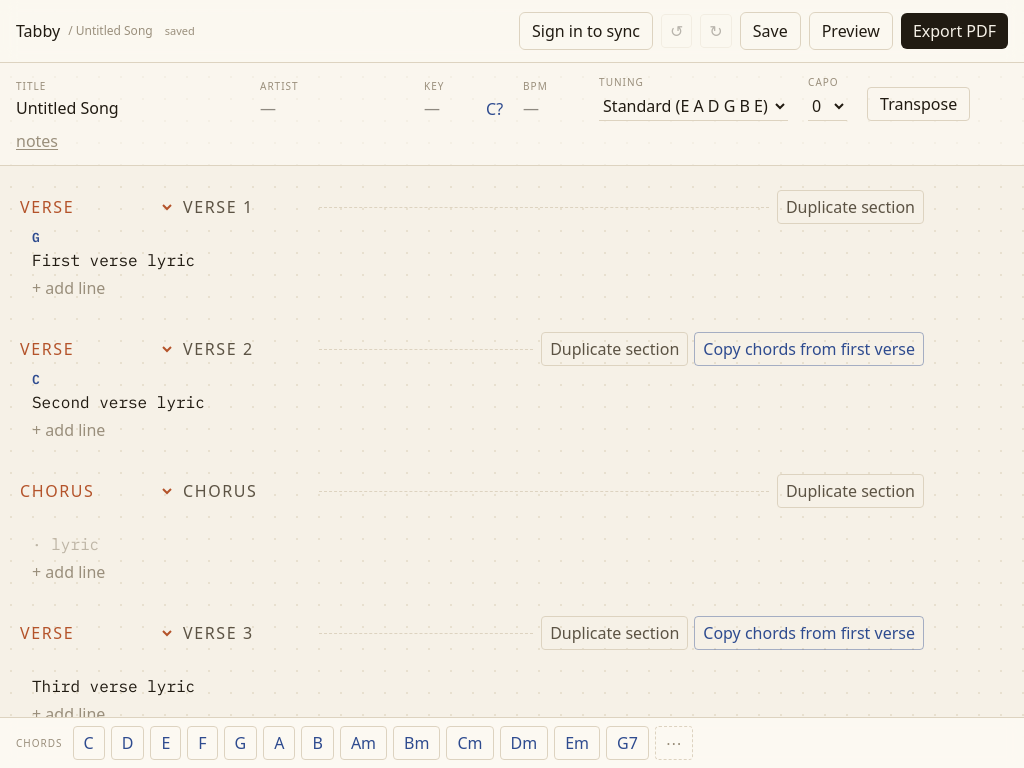
Test: app smoke › copies chords from the first verse, preserves lyrics and supports undo/redo
Click the 2nd button "Copy chords from first verse" at (809, 633), box [694,616,924,650]
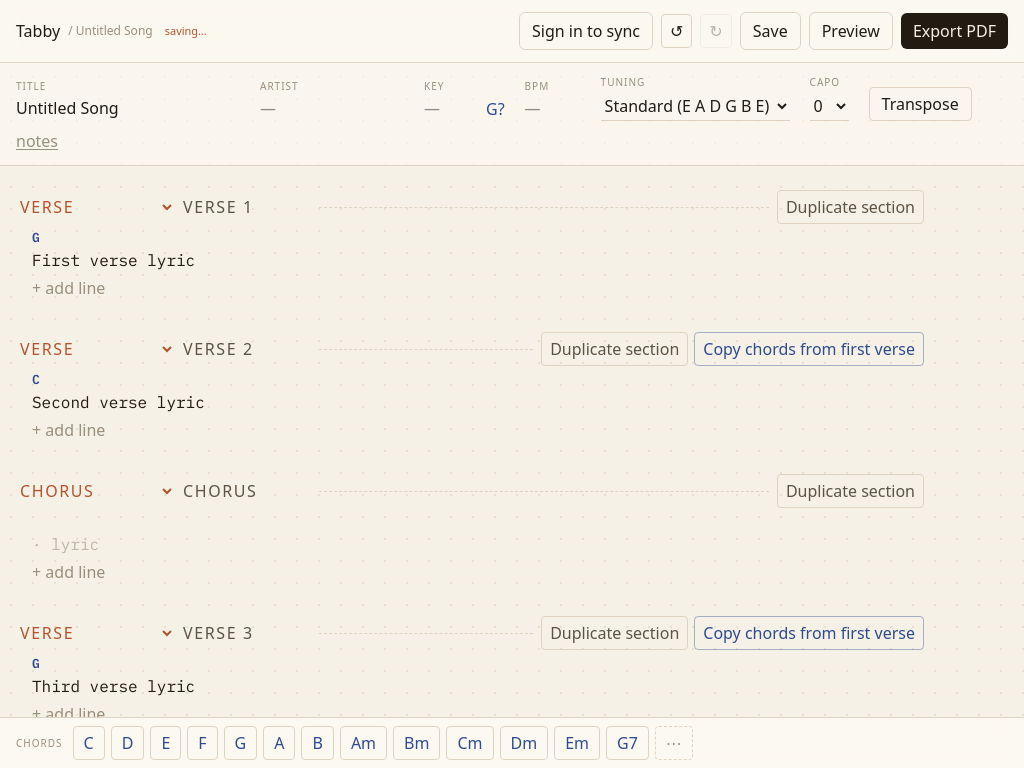
expect the button named "Chord G" is shown: met, box [32,654,40,674]
Click the 1st button "Copy chords from first verse" at (809, 349), box [694,332,924,366]
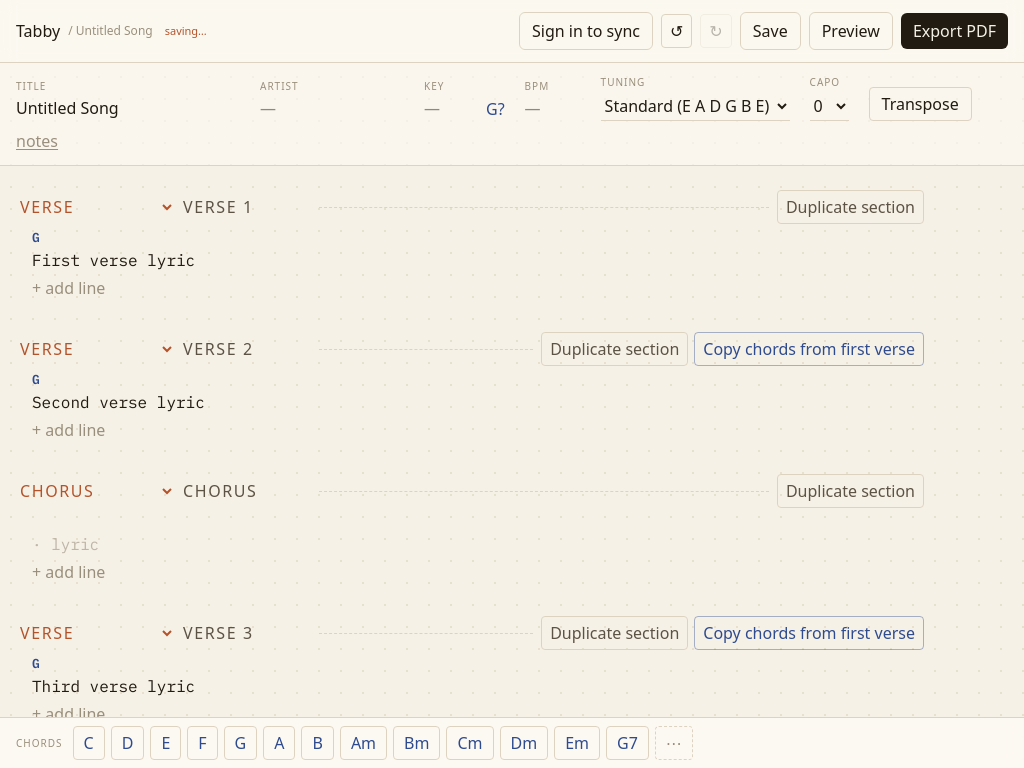
expect the 2nd field showing "Second verse lyric" is shown: met, box [32,390,205,414]
expect the button named "Chord G" is shown: met, box [32,370,40,390]
Press z
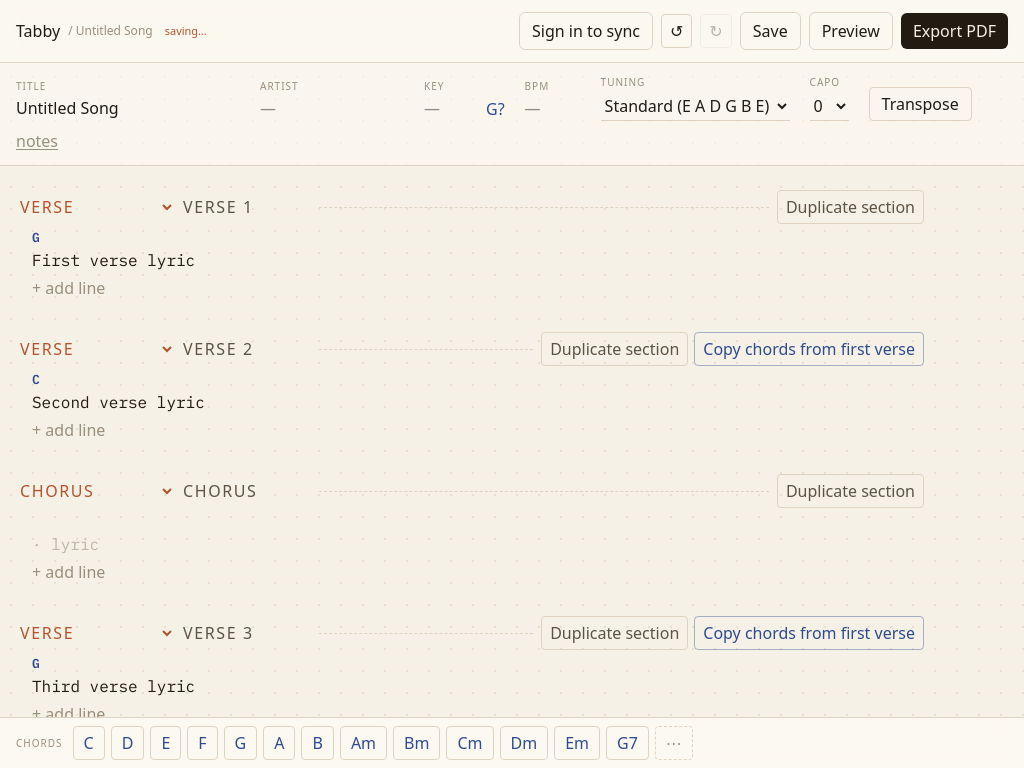
expect the button named "Chord C" is shown: met, box [32,370,40,390]
Press z
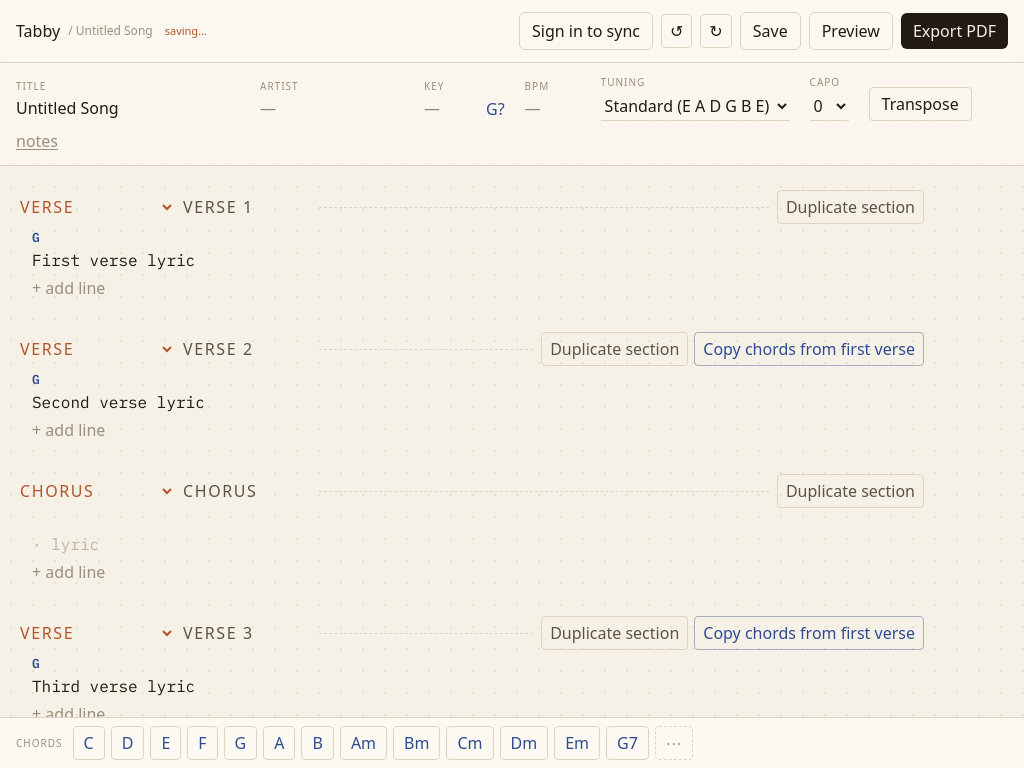
expect the button named "Chord G" is shown: met, box [32,370,40,390]
